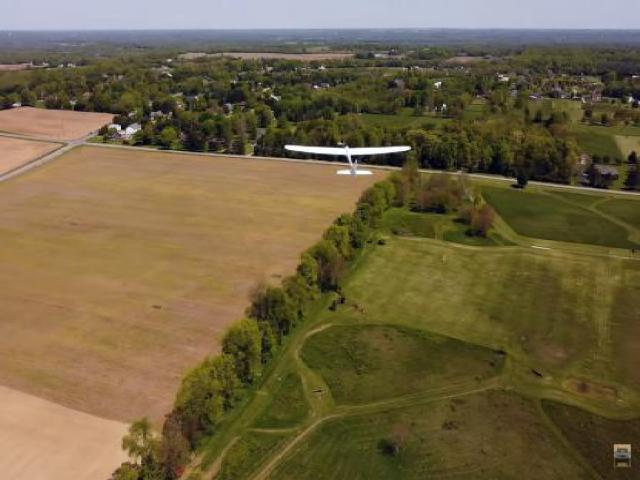uav: (276, 128, 418, 184)
